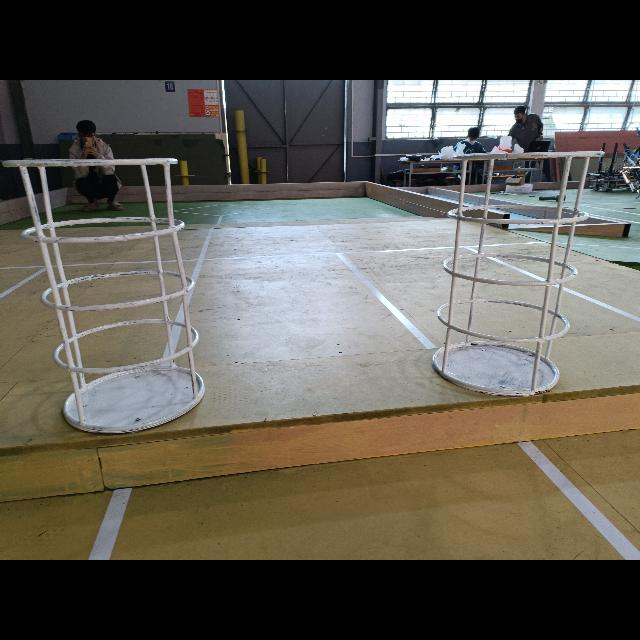S: (3, 157, 207, 437), (429, 151, 607, 397)
